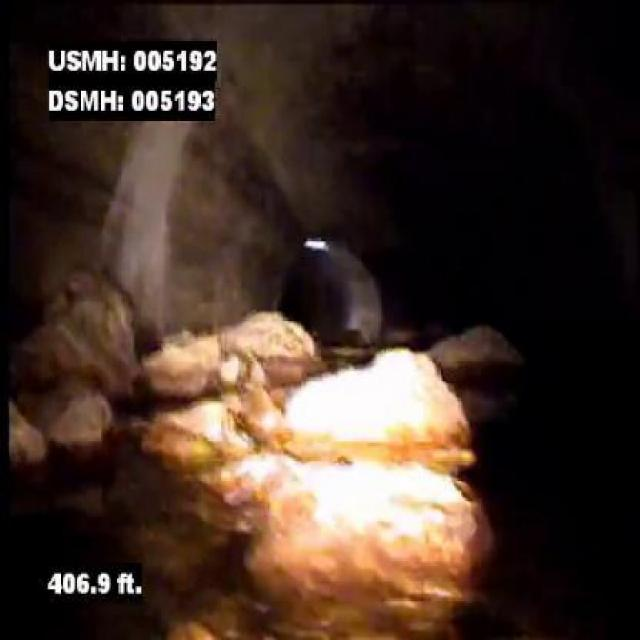Obstacle: (225, 348, 486, 577)
